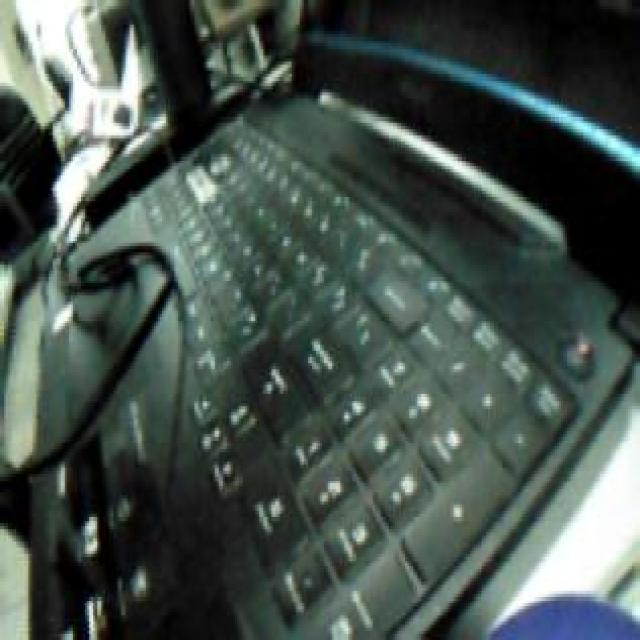BallPurple: (475, 595, 640, 640)
